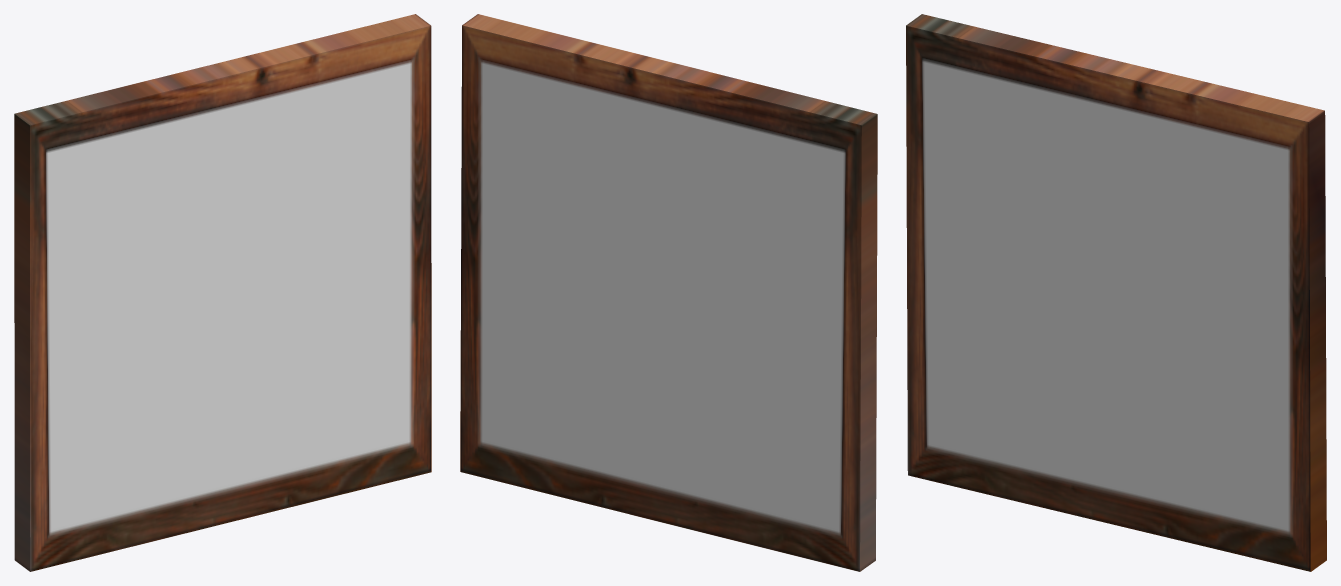
File: 2G_PicFrame_gltf.gltf
The picture shows the model from 3 angles, left to right: view 1: azimuth 30°, elevation 25°; view 2: azimuth 150°, elevation 25°; view 3: azimuth 330°, elevation 25°; orthographic projection.
Visible parts, largest first — view 1: 額縁_単体; view 2: 額縁_単体; view 3: 額縁_単体.
Part boxes in pixels (box(x1,y1,x2,y2)): 額縁_単体: box(14, 14, 431, 571); 額縁_単体: box(460, 14, 877, 571); 額縁_単体: box(906, 14, 1326, 571).
Size of the model in its own units: 1.66 by 1.78 by 0.1204.
1 material, 1 textured.
